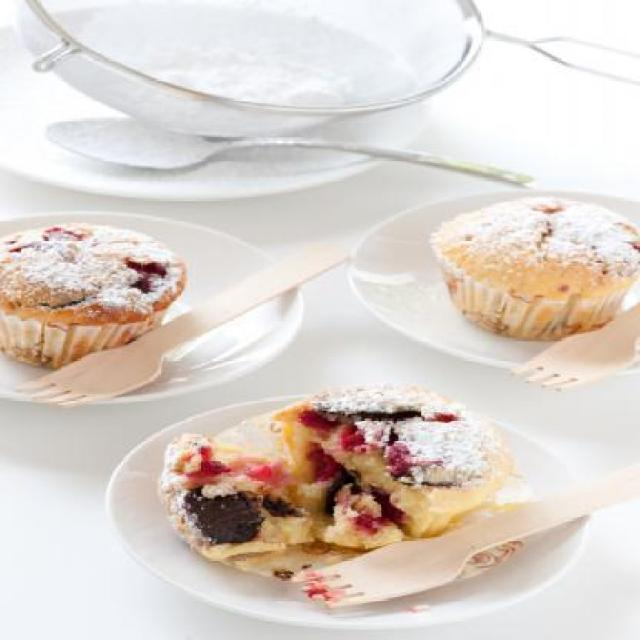Muffin: (157, 382, 514, 570), (434, 192, 640, 342), (0, 220, 192, 369)
